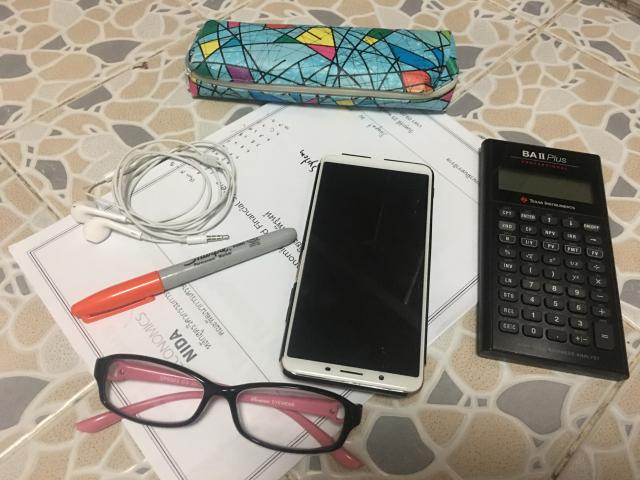Glasses: (76, 354, 361, 469)
Mobile phone: (280, 155, 434, 395)
Pen: (71, 228, 296, 322)
paper: (11, 51, 580, 480)
wire: (71, 139, 236, 244)
